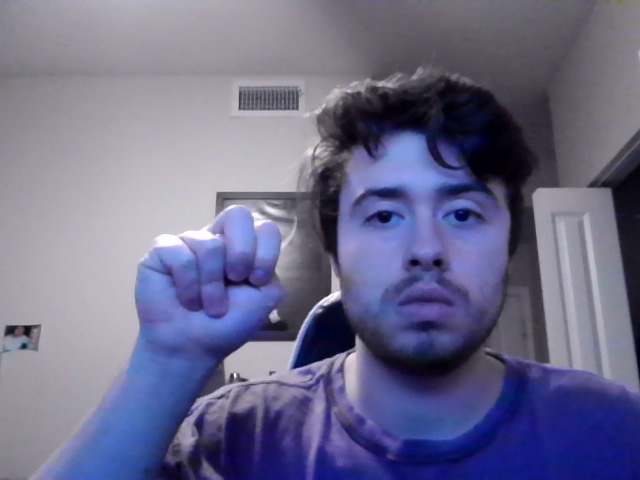n: (133, 204, 285, 373)
